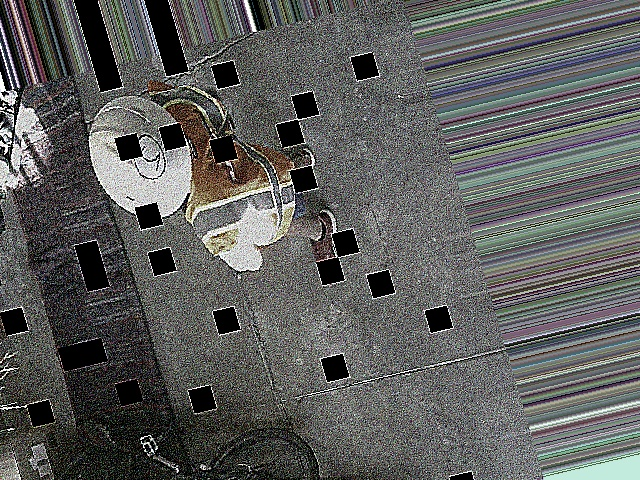two: (127, 130, 169, 181)
